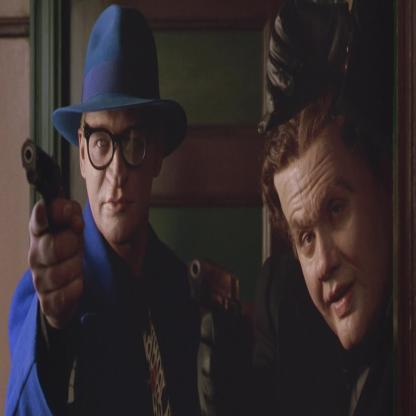gun: (18, 131, 77, 244), (187, 245, 251, 332)
